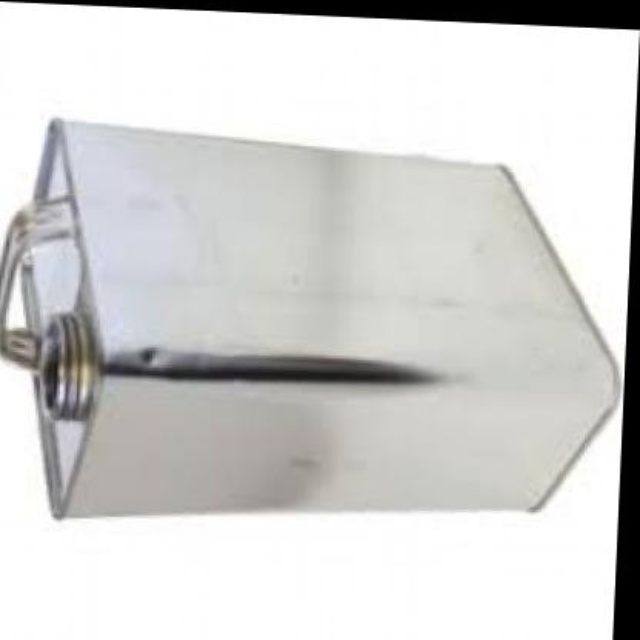trash: (0, 120, 617, 515)
